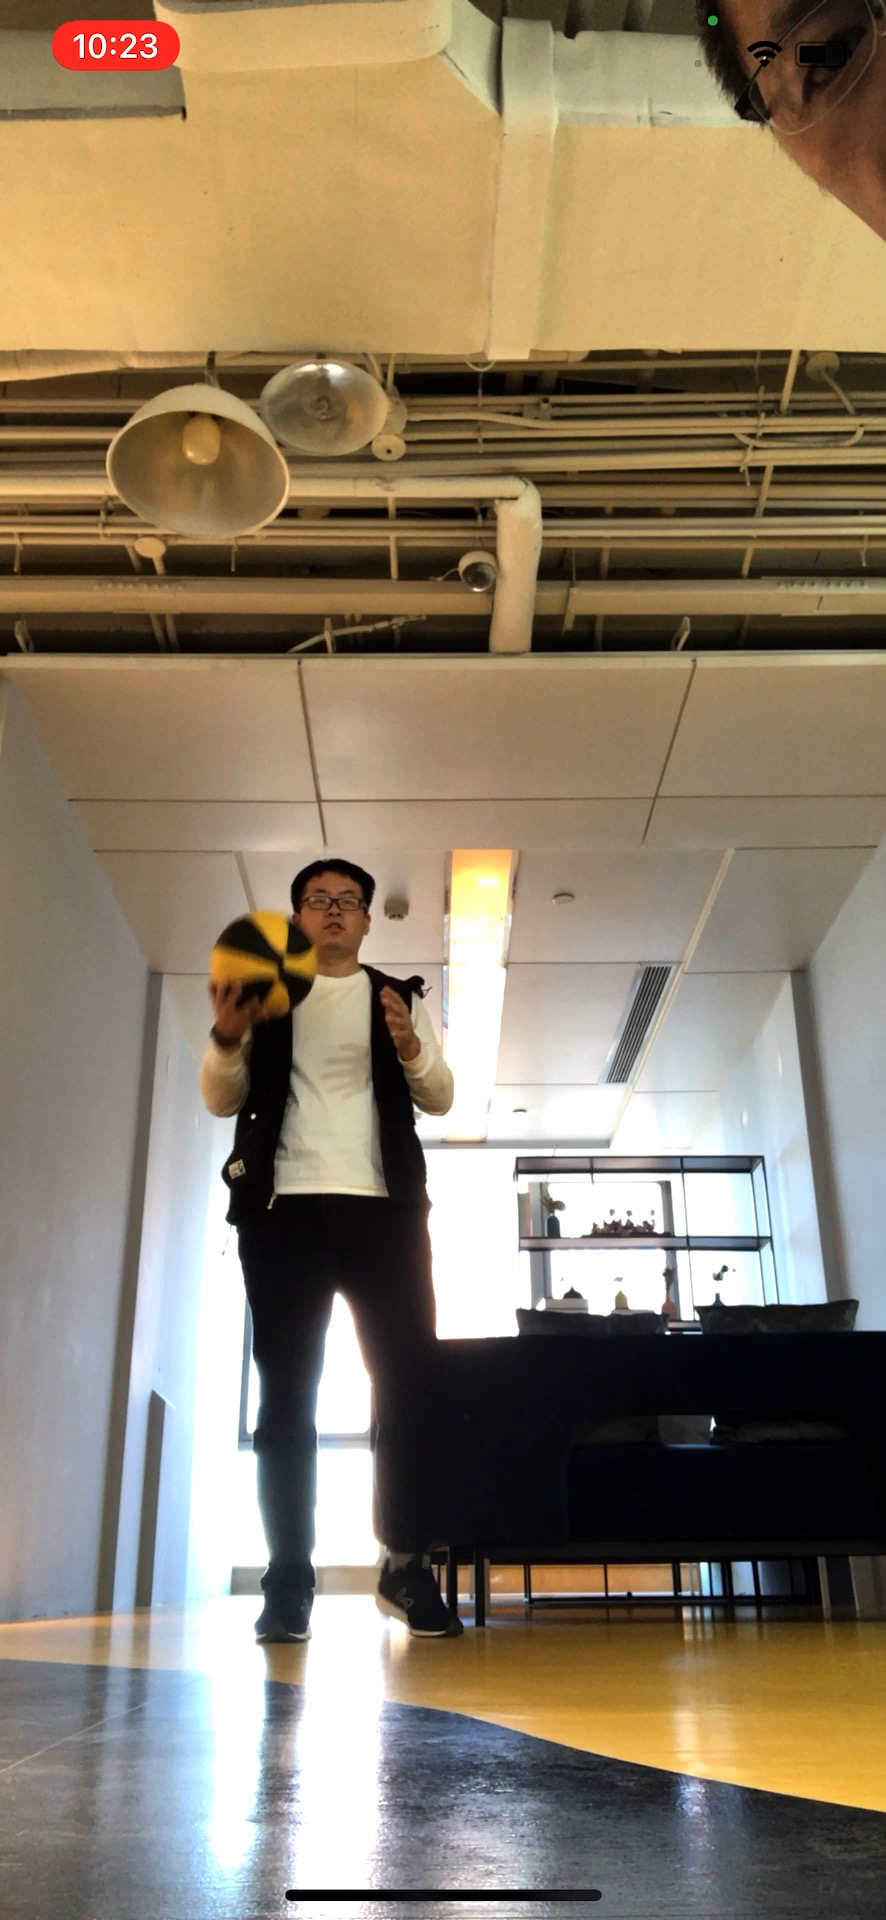ball: (206, 909, 316, 1021)
